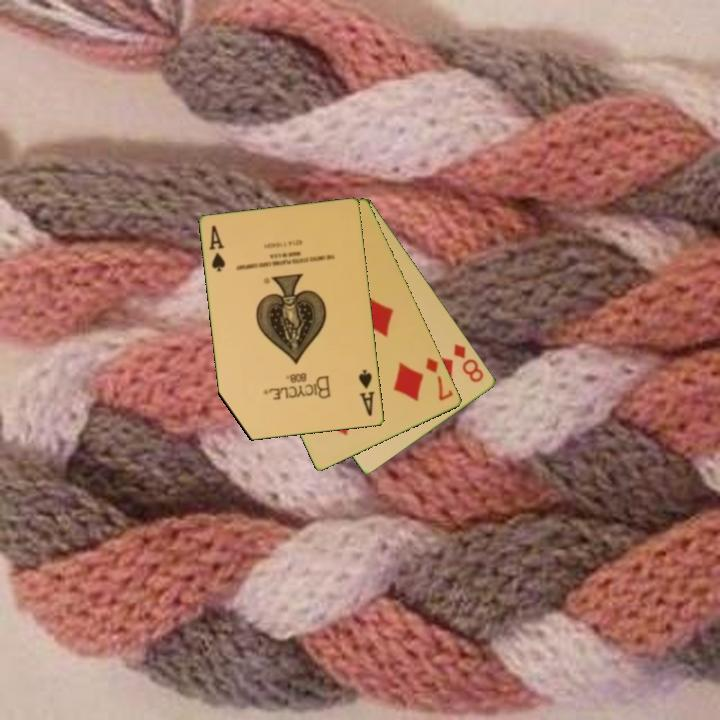7d: (422, 354, 456, 404)
8d: (450, 340, 487, 386)
As: (355, 366, 378, 419), (206, 222, 229, 275)
